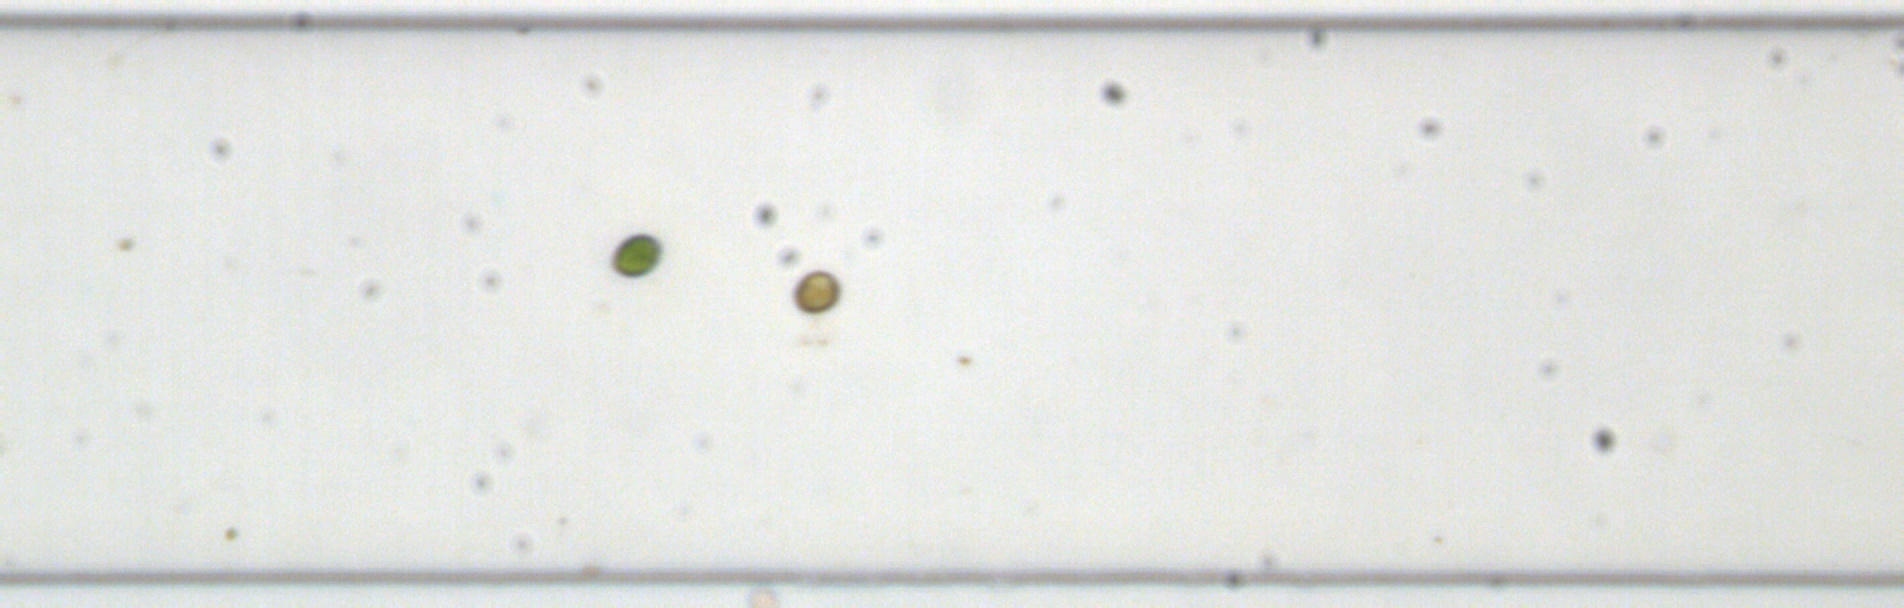Chlorella: (117, 234, 135, 252), (223, 523, 240, 539)
Effrenium: (790, 267, 844, 314)
Platymonas: (610, 231, 662, 280)
